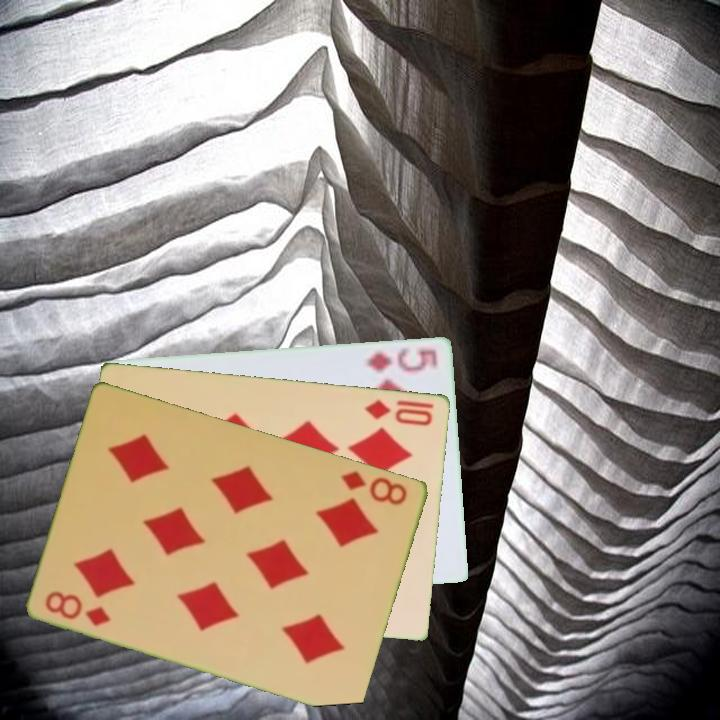10d: (361, 396, 436, 429)
5d: (364, 344, 441, 374)
8d: (42, 587, 114, 629), (338, 467, 411, 508)
